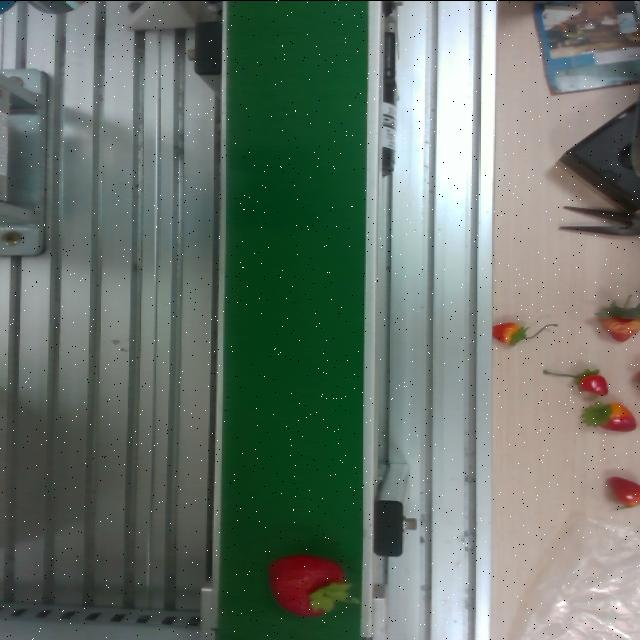Large Ripe Strawberry: (264, 552, 356, 618)
conveyor: (211, 0, 375, 640)
